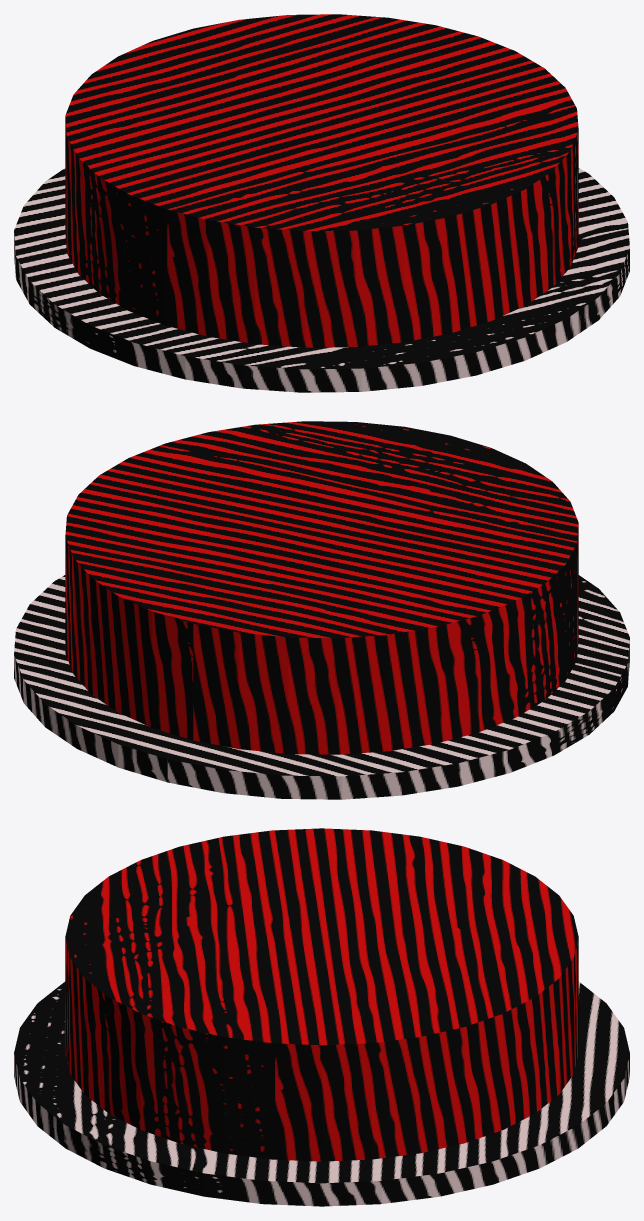
The model's file is button-D3Qh2qcH.glb.
3 views of the same model, one above another, from view 1: azimuth 30°, elevation 25°; view 2: azimuth 150°, elevation 25°; view 3: azimuth 270°, elevation 25° (orthographic).
Parts seen in each view (by area): view 1: center, outer; view 2: center, outer; view 3: center, outer.
Boxes of the visible parts, x1=… form: center: x1=65, y1=14, x2=578, y2=347; outer: x1=14, y1=168, x2=629, y2=392; center: x1=65, y1=421, x2=578, y2=754; outer: x1=14, y1=575, x2=629, y2=799; center: x1=65, y1=828, x2=578, y2=1161; outer: x1=14, y1=981, x2=629, y2=1206.
Size of the model in its own units: 1.2 by 0.3 by 1.2.
Materials: 2 (2 with a texture image).
